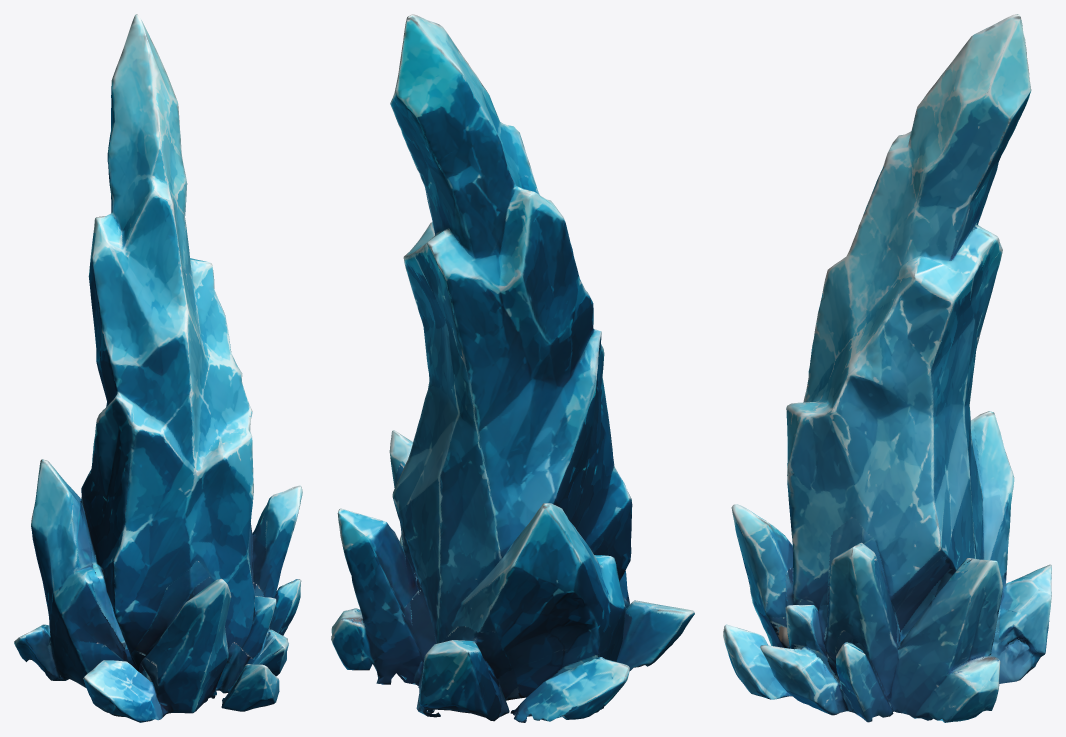
The model's file is IceSpike_01.fbx.
The picture shows the model from 3 angles, left to right: view 1: azimuth 30°, elevation 25°; view 2: azimuth 150°, elevation 25°; view 3: azimuth 270°, elevation 25°; orthographic projection. The views are drawn at different scales.
Parts seen in each view (by area): view 1: texture_mapping; view 2: texture_mapping; view 3: texture_mapping.
Part boxes in pixels (x1,y1,x2,y2): texture_mapping: (14,14,302,722); texture_mapping: (331,14,694,722); texture_mapping: (723,14,1051,722).
Bounding box in the file's own units: 0.427 × 0.4455 × 1.
Materials: 1 (1 with a texture image).
